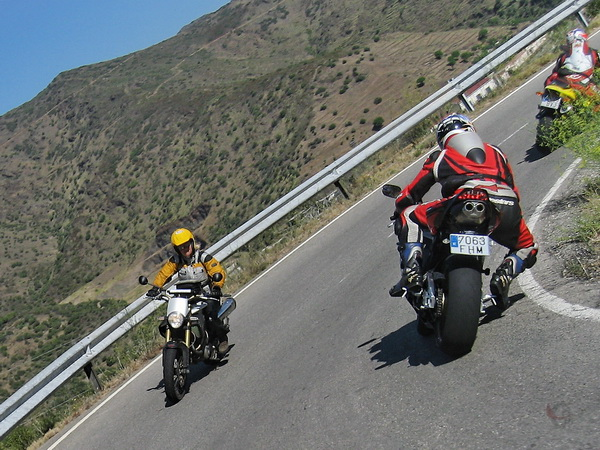helmet: (159, 226, 204, 267)
